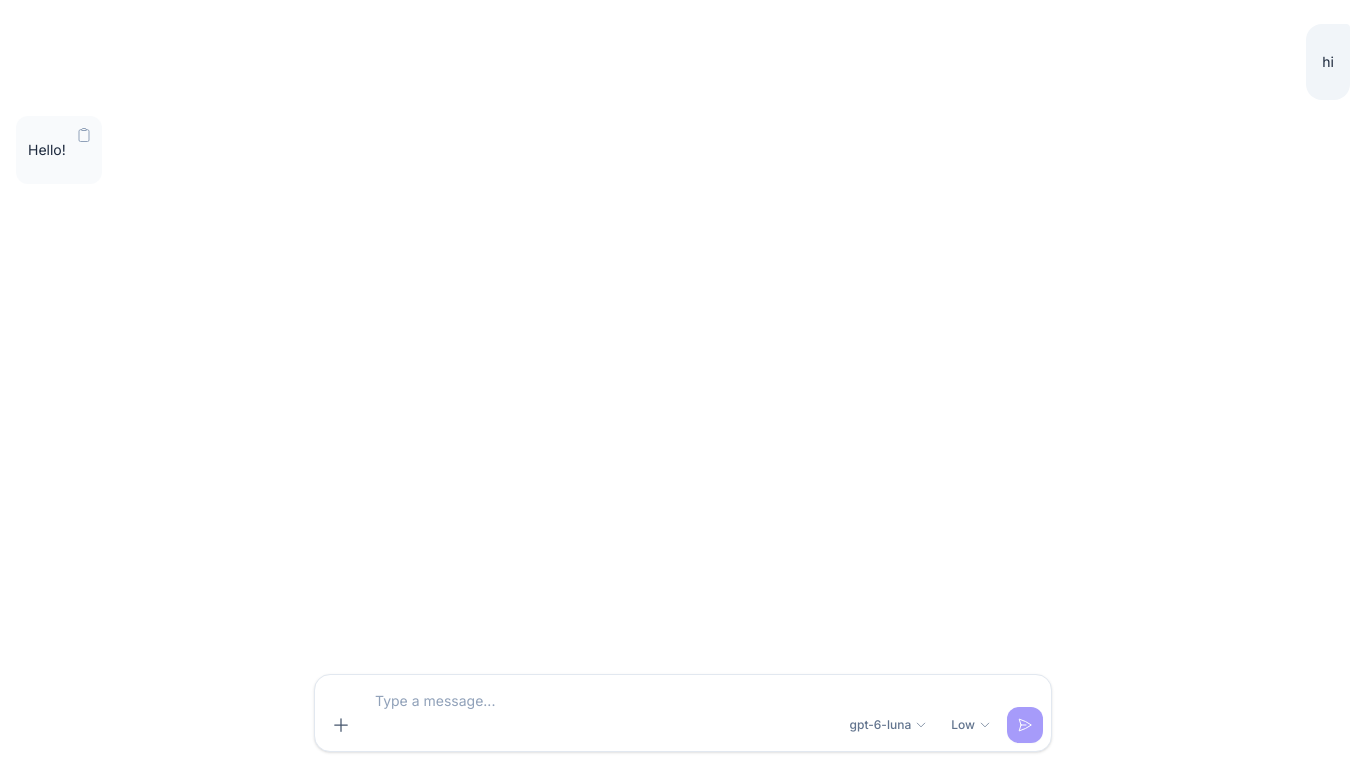
it: ChatPage › adds a follow-up to a saved conversation below its history
Check: the text "Hello!" is shown, box [28, 138, 66, 162]
Type "One more thing" into the dropdown with placeholder "Type a message..." at x=600, y=713, box [367, 683, 834, 743]
Then press Enter
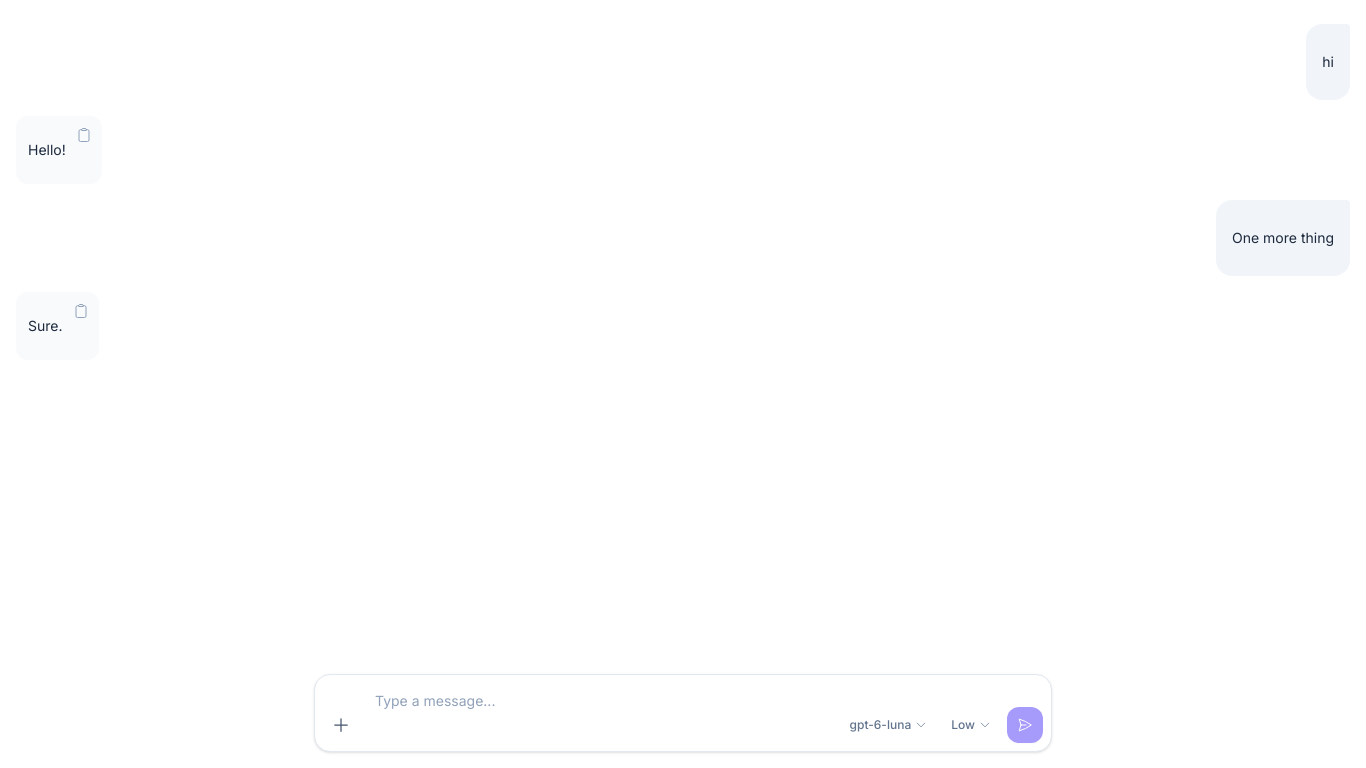
Check: the text "Hello!" is shown, box [28, 138, 66, 162]
Check: the text "Sure." is shown, box [28, 314, 62, 338]
Check: the text "One more thing" is shown, box [1232, 226, 1334, 250]
